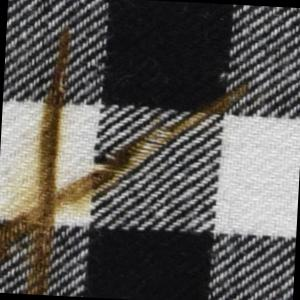Oil Stain: (1, 20, 256, 300)
